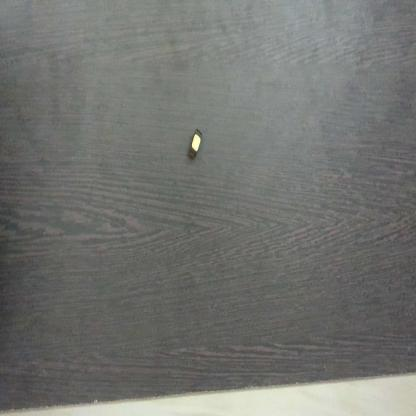NUTS: (186, 119, 204, 162)
